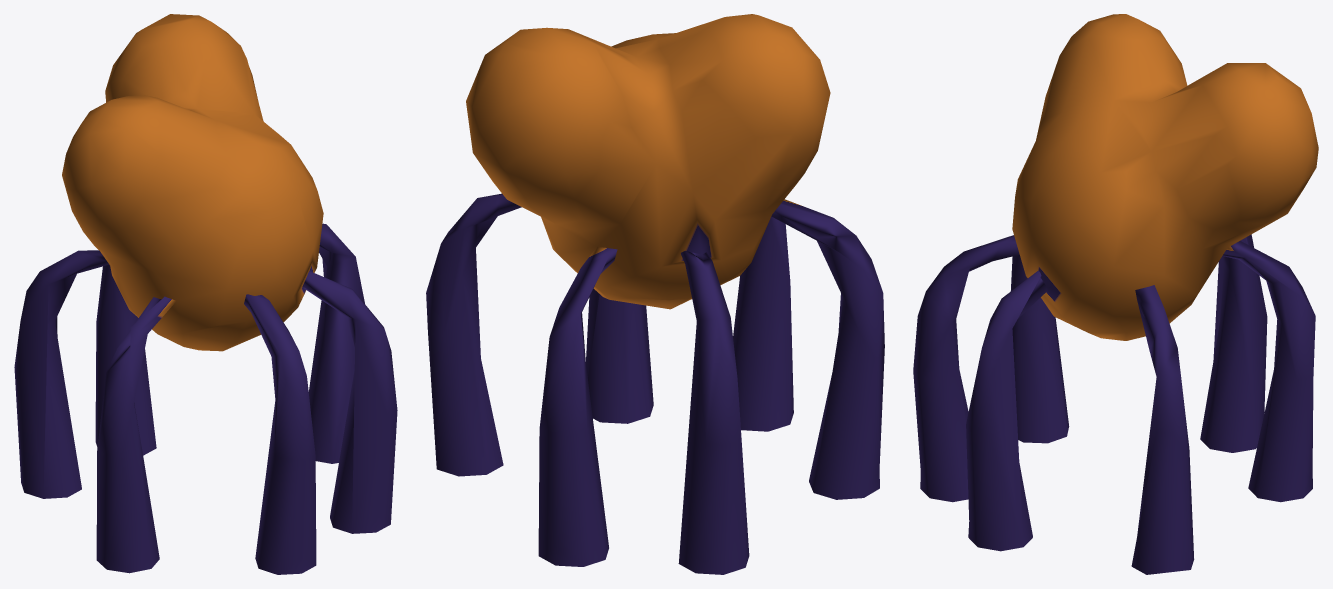
File: usk_Tree_Blob-j0byyoIGOv_lod.glb
The picture shows the model from 3 angles, left to right: view 1: azimuth 30°, elevation 25°; view 2: azimuth 150°, elevation 25°; view 3: azimuth 270°, elevation 25°; orthographic projection. The views are drawn at different scales.
Visible parts, largest first — view 1: Tree_Blob_2; view 2: Tree_Blob_2; view 3: Tree_Blob_2.
Boxes of the visible parts, x1,y1,x2,y2 form: Tree_Blob_2: (14, 14, 397, 574); Tree_Blob_2: (426, 14, 884, 574); Tree_Blob_2: (913, 14, 1318, 574).
Size of the model in its own units: 3.67 by 4.61 by 3.85.
1 material, 1 textured.
